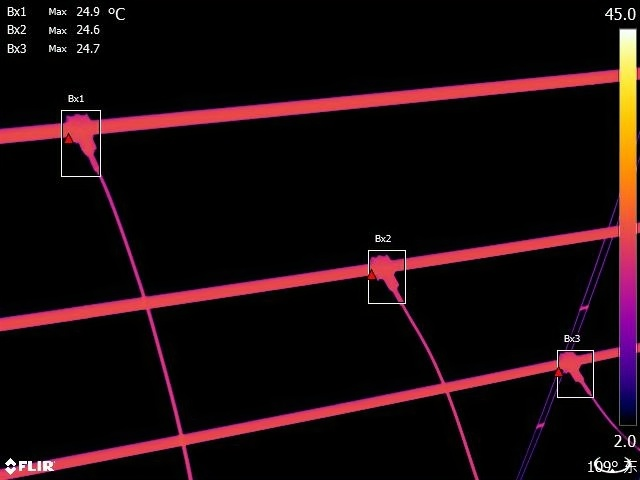clamp: (64, 112, 101, 171), (371, 253, 402, 301), (562, 352, 592, 396)
